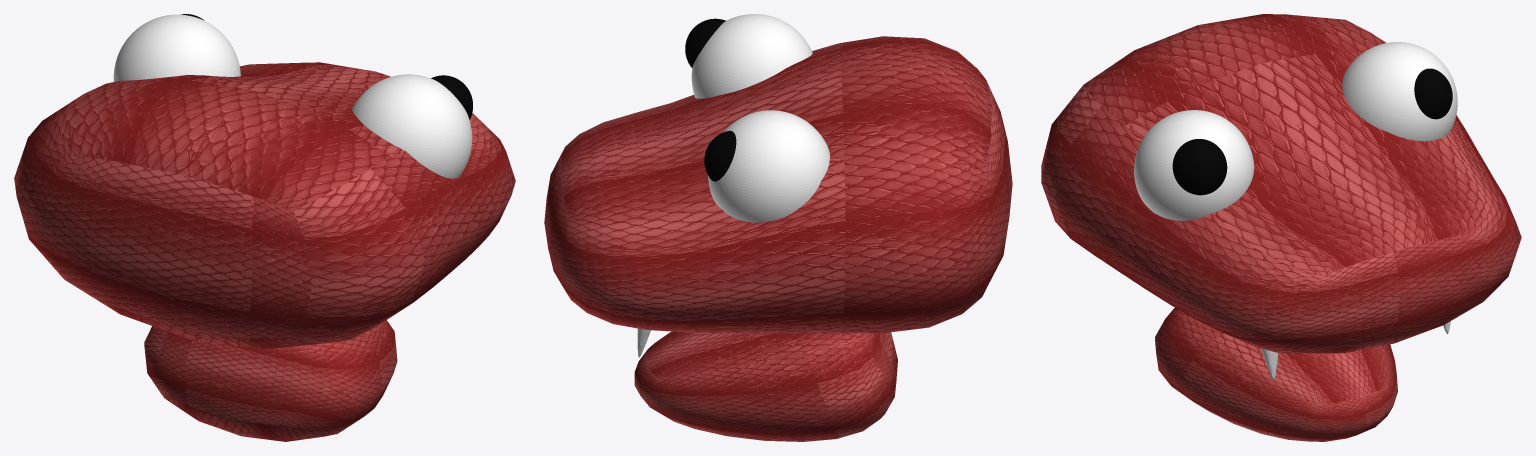
File: красная змея голова.fbx
The picture shows the model from 3 angles, left to right: view 1: azimuth 30°, elevation 25°; view 2: azimuth 150°, elevation 25°; view 3: azimuth 270°, elevation 25°; orthographic projection. The views are drawn at different scales.
Parts seen in each view (by area): view 1: тельце, белик, зрачик; view 2: тельце, белик, зрачик; view 3: тельце, белик, зрачик.
Boxes of the visible parts, box(x1,y1,x2,y2) form: тельце: box(14, 62, 515, 441); белик: box(113, 14, 472, 178); зрачик: box(181, 14, 472, 119); тельце: box(544, 36, 1012, 441); белик: box(691, 14, 829, 222); зрачик: box(685, 18, 736, 181); тельце: box(1041, 14, 1521, 441); белик: box(1134, 42, 1457, 220); зрачик: box(1172, 68, 1452, 195).
Size of the model in its own units: 822 by 643 by 813.
Materials: 3 (1 with a texture image).
